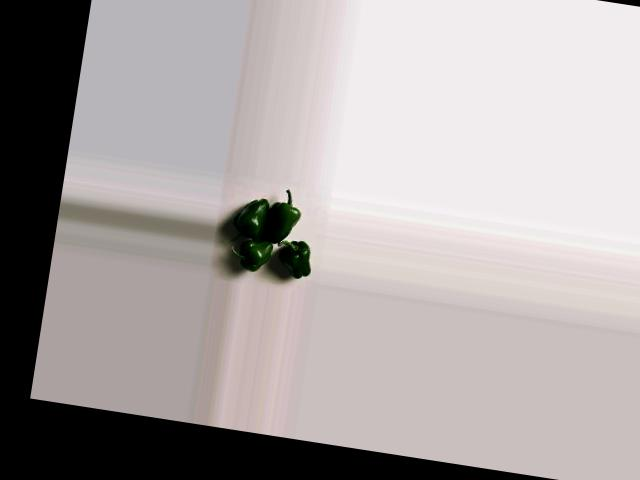bell_pepper: (229, 238, 275, 273)
